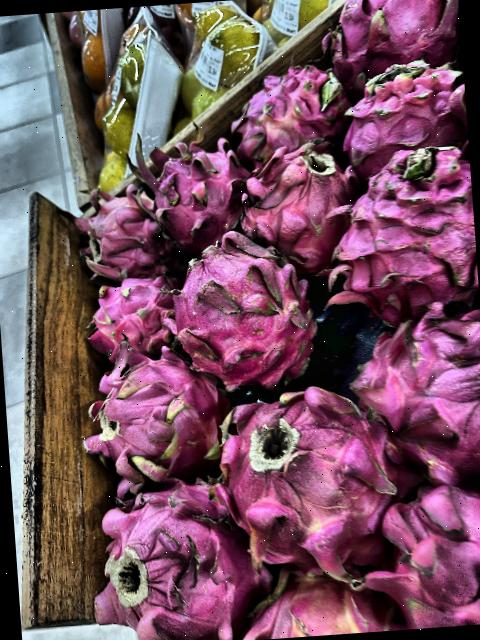buah-naga-belum-matang: (250, 560, 390, 640), (233, 69, 346, 147)
buah-naga-matang: (206, 369, 400, 577), (84, 469, 252, 640), (320, 139, 480, 318), (357, 299, 480, 480), (170, 248, 311, 378), (84, 350, 221, 483), (369, 483, 480, 631), (334, 46, 469, 162), (242, 147, 352, 256), (130, 134, 250, 233), (318, 0, 460, 79), (73, 177, 174, 281), (79, 272, 187, 353)
